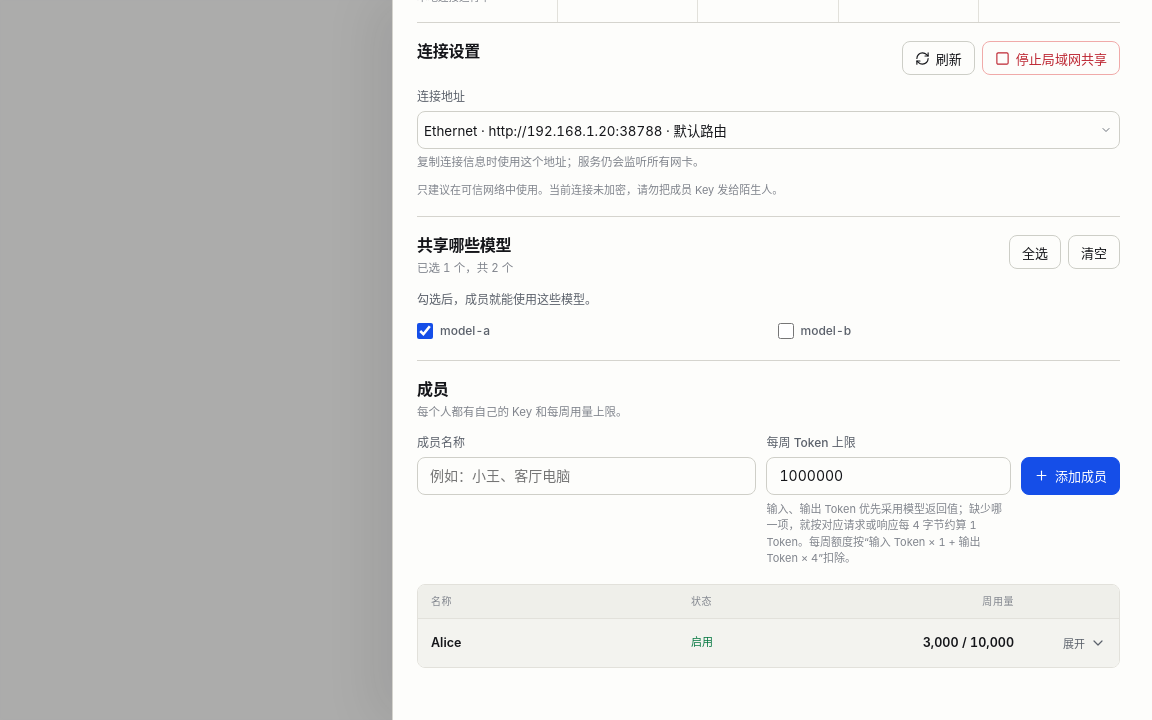
Test case: LanSharingDrawer › expands a newly added member and collapses the previously open member
(page scrolled)
Expected: the text "Alice" is shown, top-left (431, 635), bottom-right (462, 650)
Click the button "Alice 启用 3,000 / 10,000 展开". click: [446, 643]
box: top-left (418, 619), bottom-right (1119, 667)
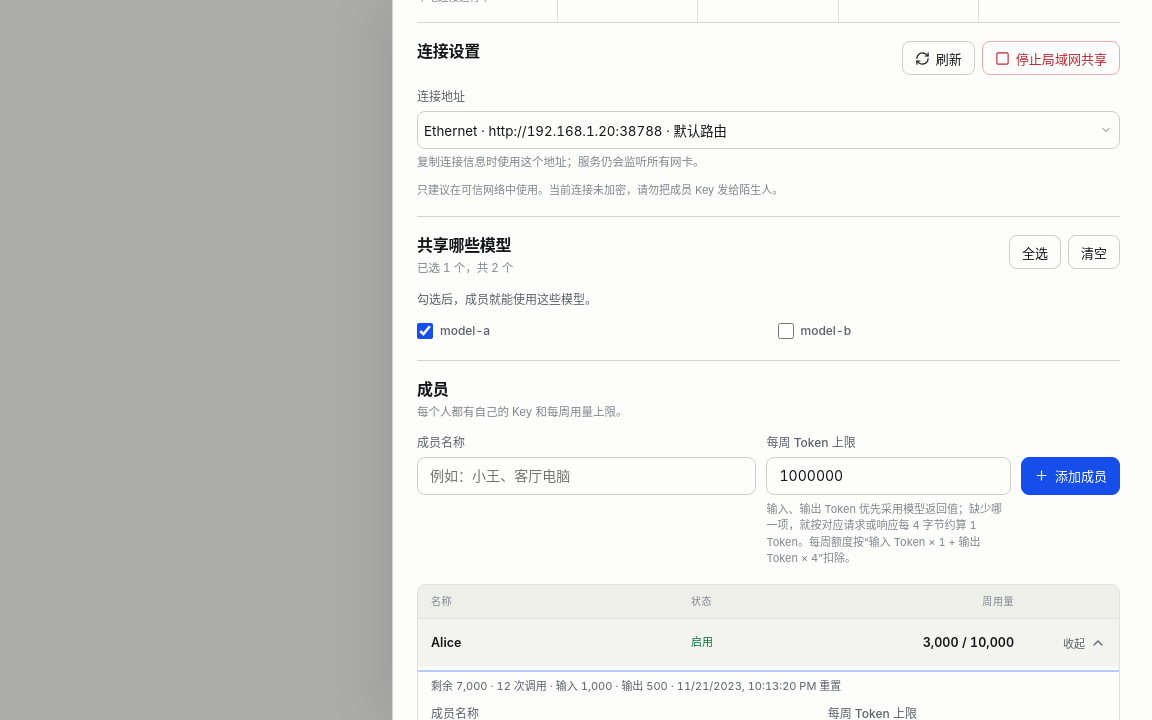
Expected: the form with class "lan-share-add-member" is shown, top-left (417, 435), bottom-right (1120, 567)
Click the button "添加成员". click: [1070, 476]
box: top-left (1021, 457), bottom-right (1120, 495)
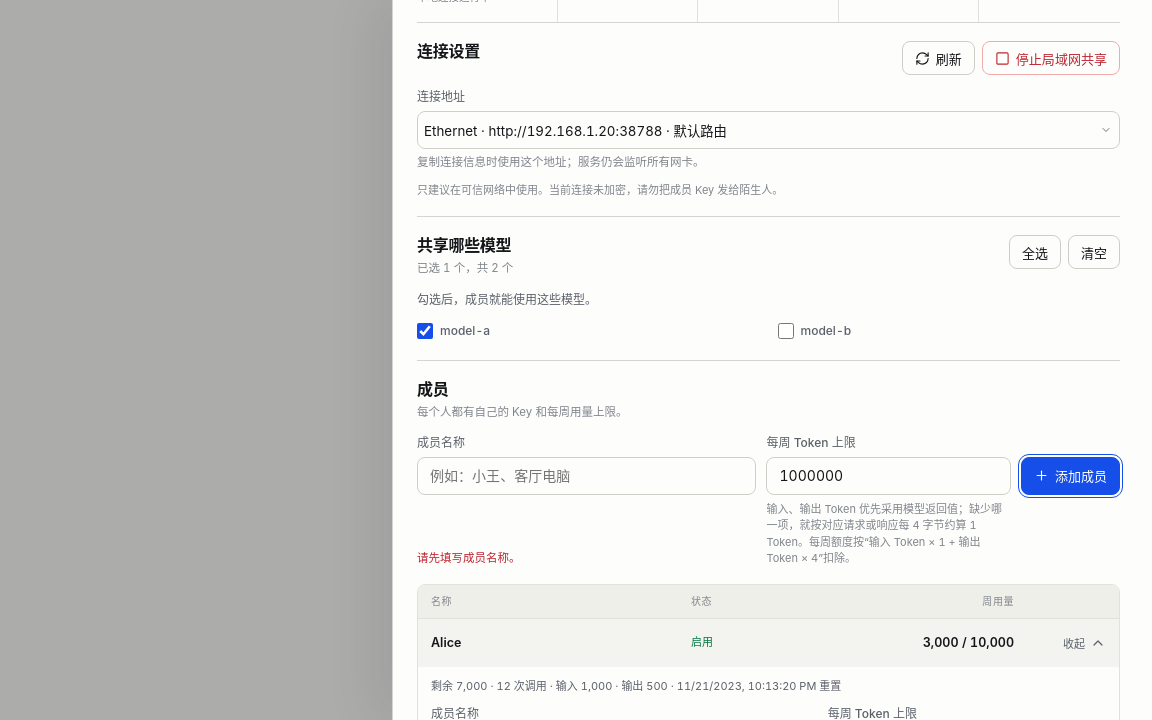
Result: the message reads "请先填写成员名称。" at top-left (417, 551), bottom-right (520, 565)
Type "Bob" into the field. click: [587, 476]
box: top-left (417, 457), bottom-right (756, 495)
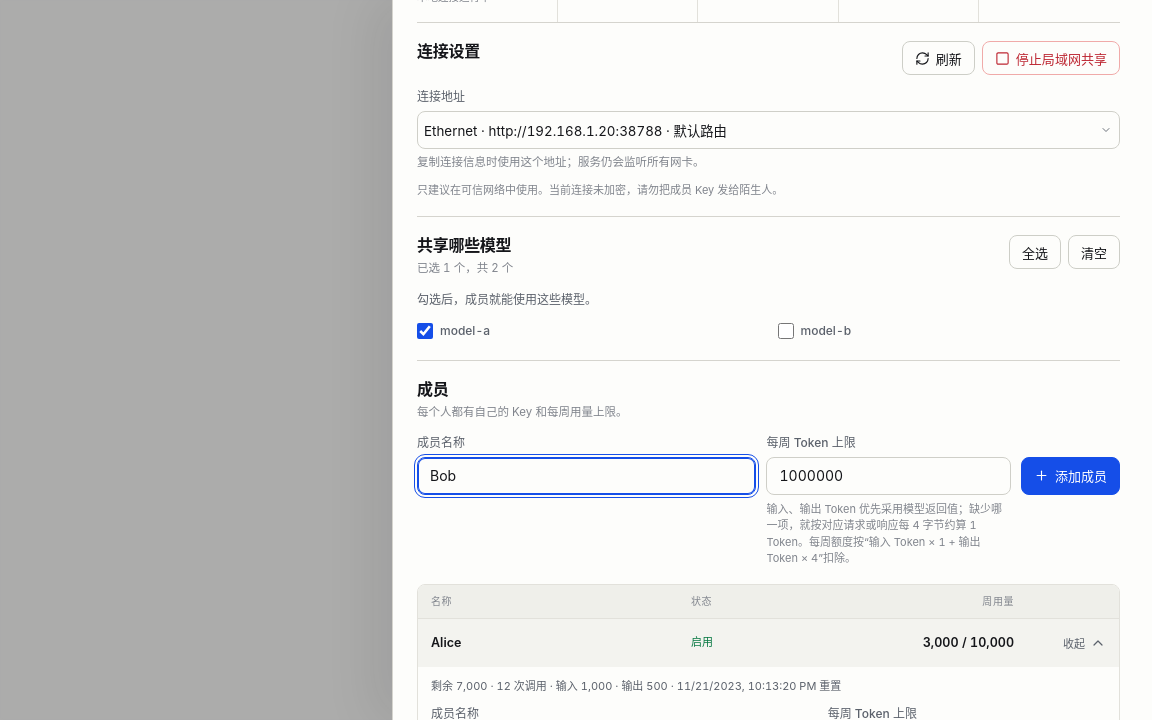
Result: the message "请先填写成员名称。" is gone
Click the button "添加成员". click: [1070, 476]
box: top-left (1021, 457), bottom-right (1120, 495)
(page scrolled)
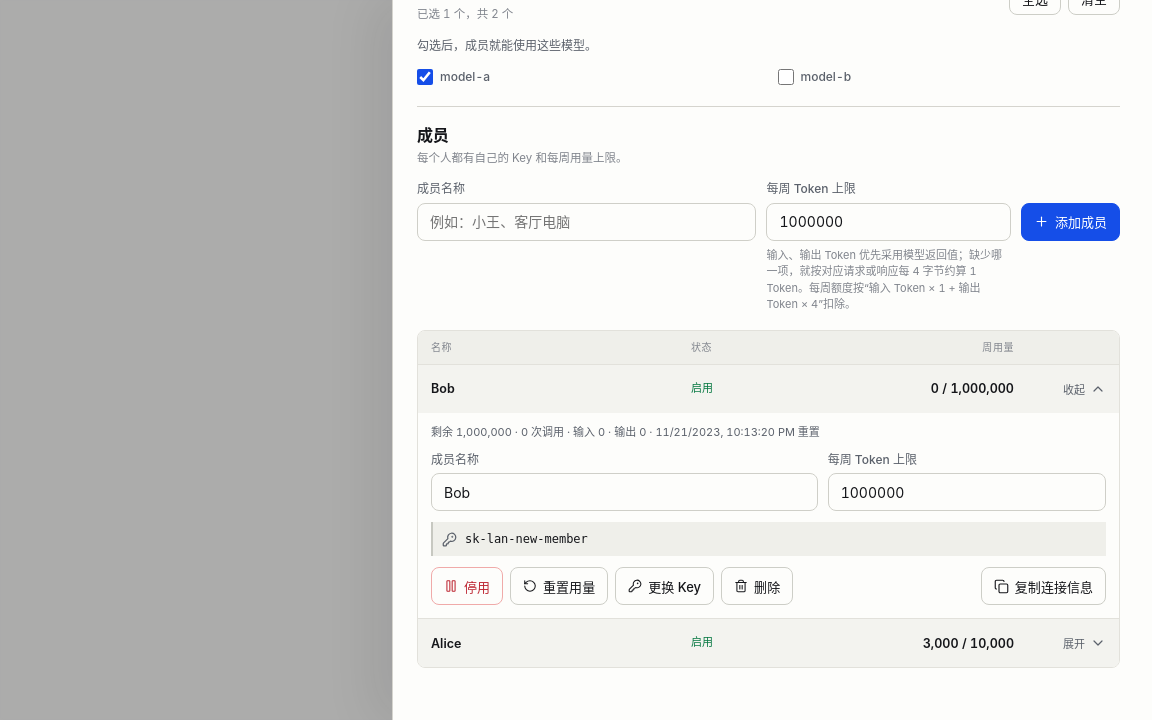
Result: the text "Bob" is shown at top-left (431, 381), bottom-right (455, 396)
Result: the field labelled "成员名称" below "剩余 1,000,000" is shown at top-left (431, 474), bottom-right (818, 512)
Result: the number of elements with class "expanded" is 1 at top-left (418, 365), bottom-right (1119, 619)
